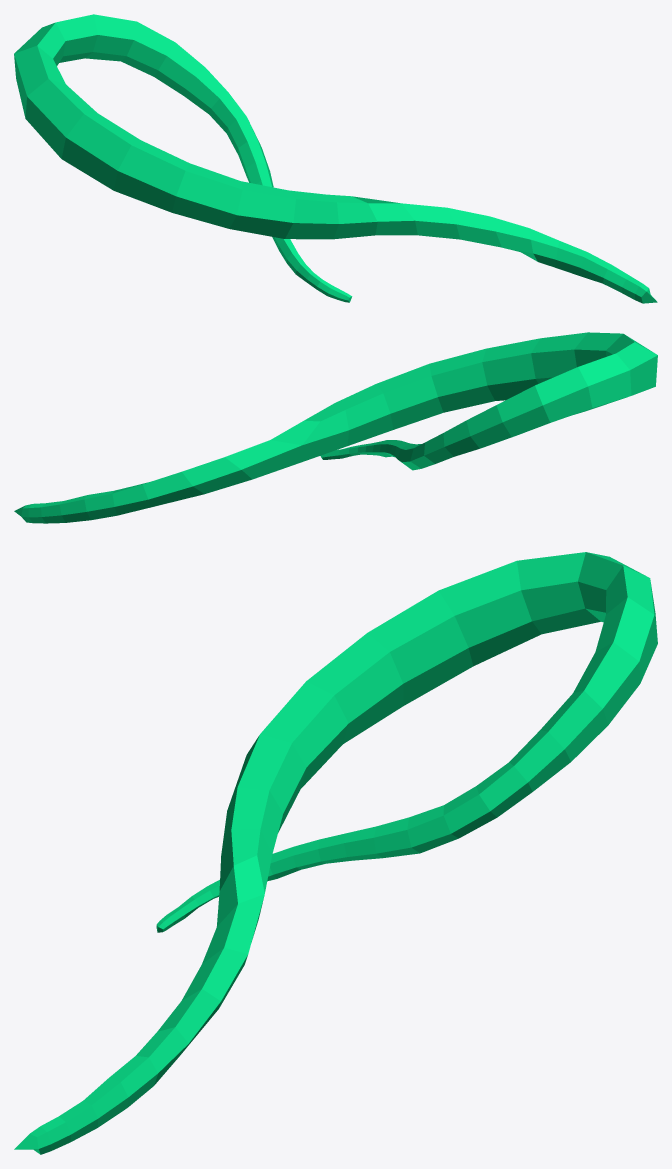
3 renders of one model, top to bottom at view 1: azimuth 30°, elevation 25°; view 2: azimuth 210°, elevation 25°; view 3: azimuth 270°, elevation 25°, orthographic. The views are drawn at different scales.
Visible parts, largest first — view 1: Root_01_Lod1; view 2: Root_01_Lod1; view 3: Root_01_Lod1.
Part boxes in pixels (x1,y1,x2,y2): Root_01_Lod1: [14, 14, 657, 303]; Root_01_Lod1: [14, 332, 657, 523]; Root_01_Lod1: [14, 552, 657, 1154].
Size of the model in its own units: 651 by 308 by 561.
